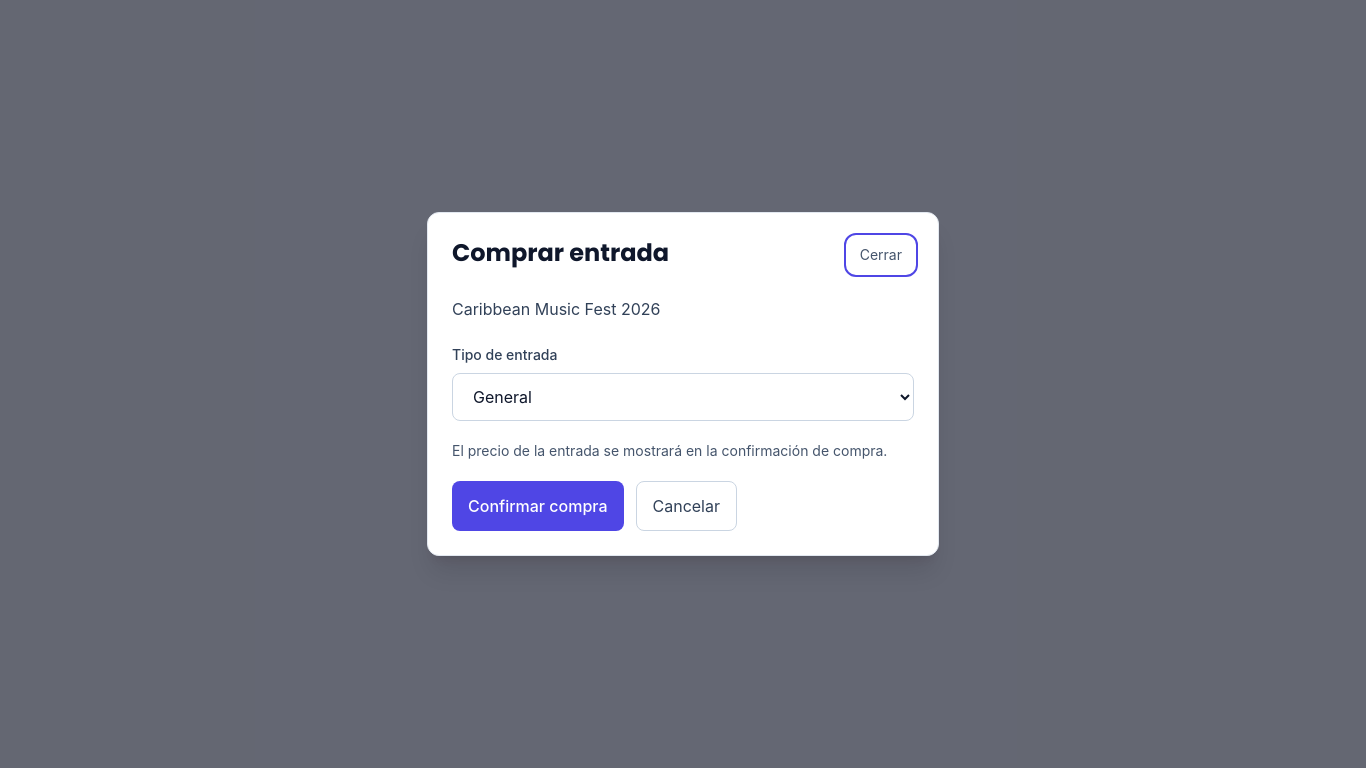
Test: ModalCompra › mantiene el formulario abierto tras un conflicto y permite reintentar
This screenshot has width=1366, height=768.
Later steps or results of the test are not shown.
Click the button "Confirmar compra".
click(538, 506)  # box top-left (452, 481), bottom-right (624, 531)
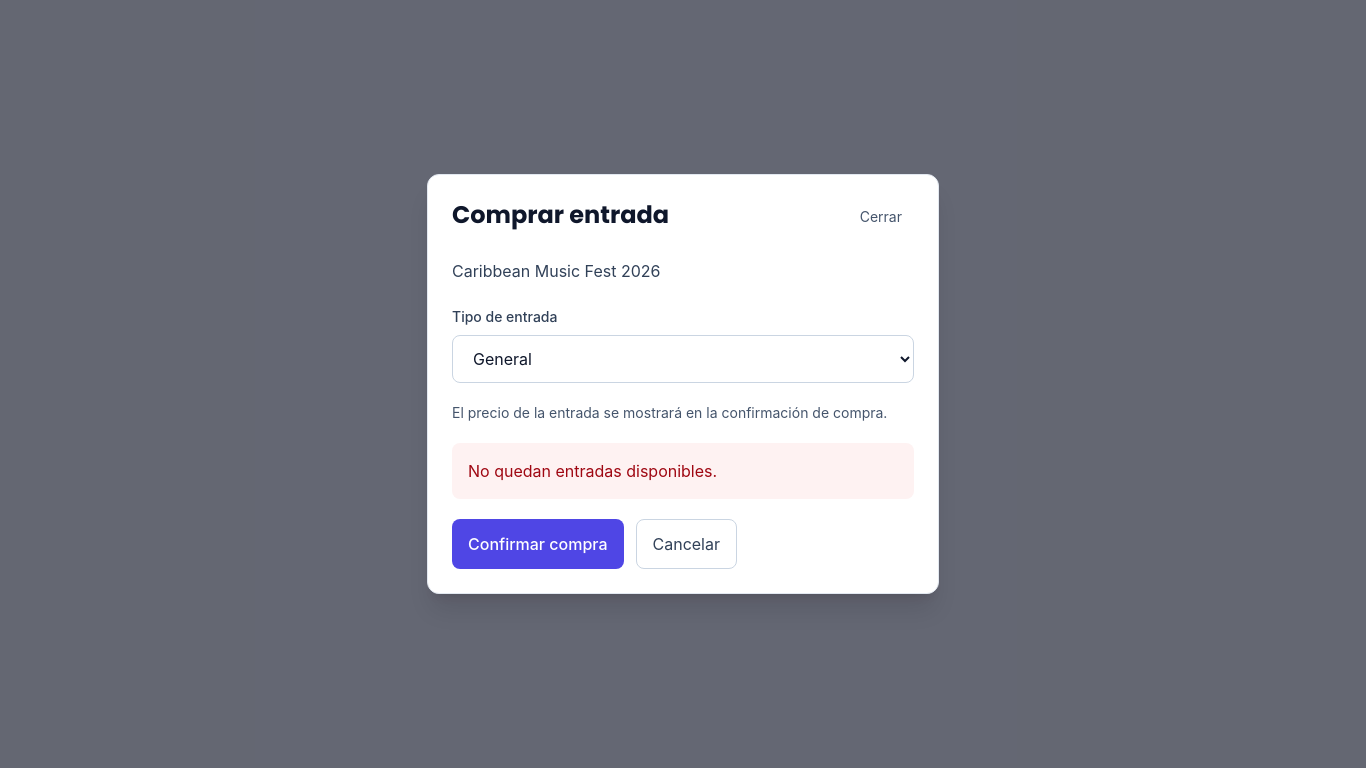
Expected: the dialog "Comprar entrada" is shown, top-left (427, 174), bottom-right (939, 594)
Expected: the message reads "No quedan entradas disponibles.", top-left (468, 461), bottom-right (717, 481)
